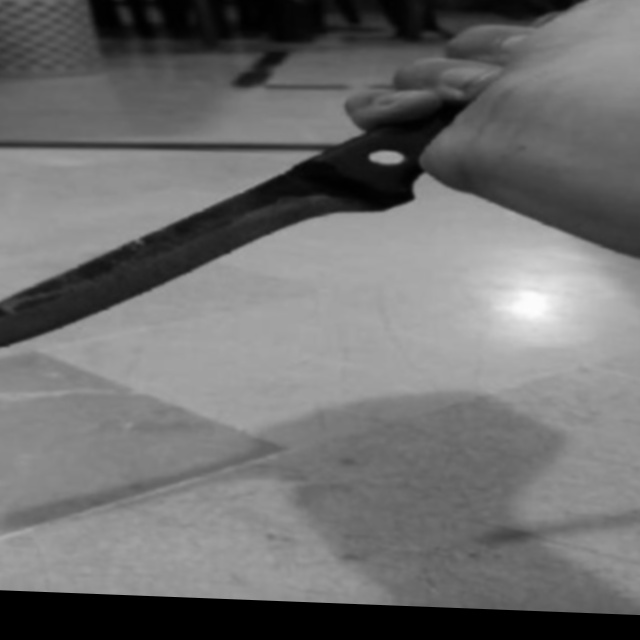Sharp-Object: (0, 89, 469, 367)
